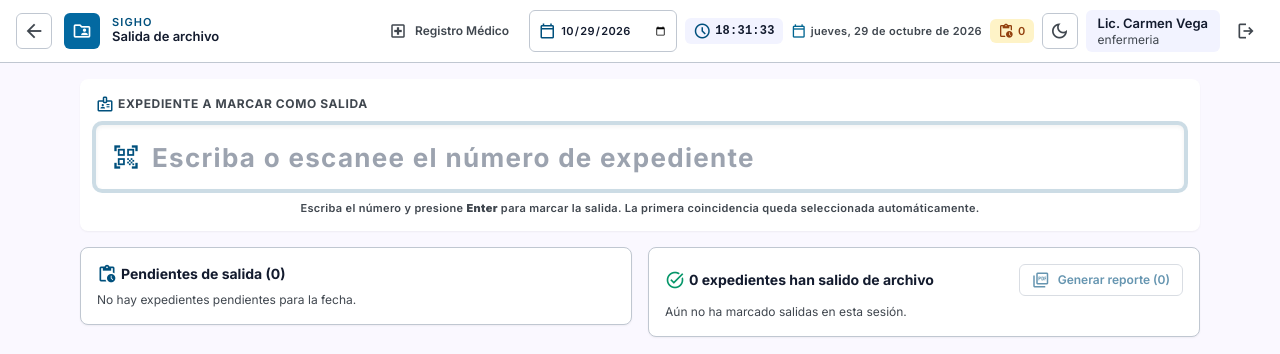
Test case: SalidaArchivoPage › avisa cuando no hay coincidencia con el número ingresado
expect the heading "Pendientes de salida (0)" is shown: met, box top-left (97, 262), bottom-right (286, 286)
Type "999999" into the field with placeholder "Escriba o escanee el número de expediente" at x=640, y=157, box top-left (96, 125), bottom-right (1184, 189)
Then press Enter
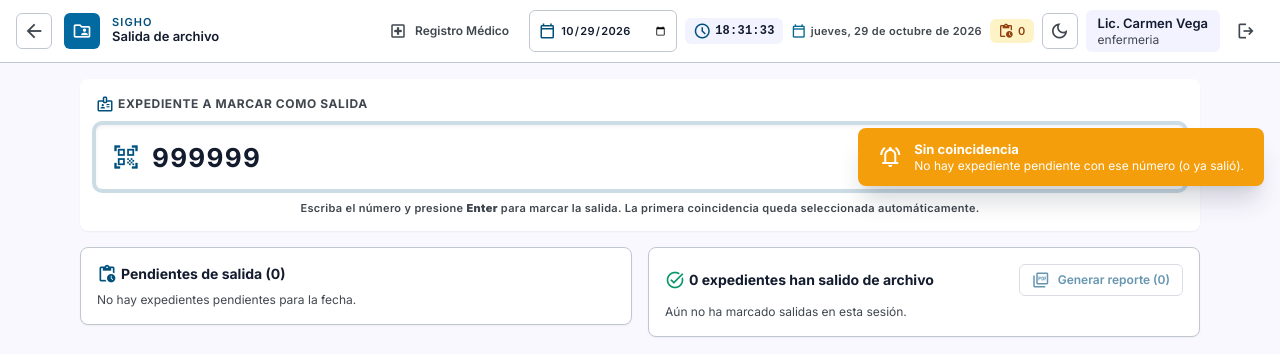
expect the text "Sin coincidencia" is shown: met, box top-left (914, 141), bottom-right (1019, 157)
